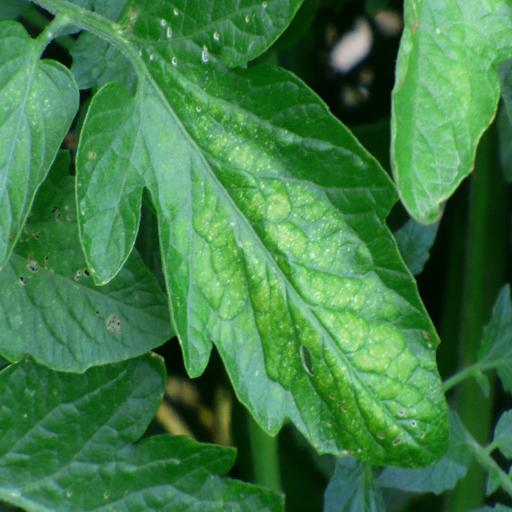disease_tomato: (74, 0, 454, 473)
